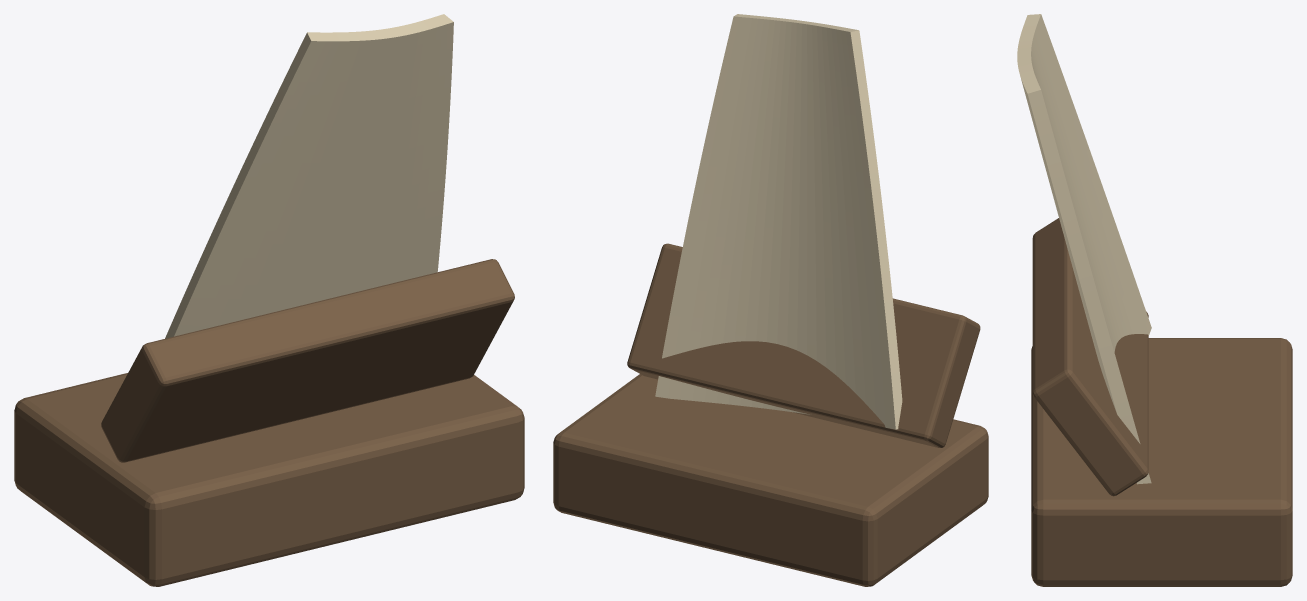
Rendered from oracle-bone.glb.
The picture shows the model from 3 angles, left to right: view 1: azimuth 30°, elevation 25°; view 2: azimuth 150°, elevation 25°; view 3: azimuth 270°, elevation 25°; orthographic projection. The views are drawn at different scales.
Visible parts, largest first — view 1: bone; view 2: bone; view 3: bone.
Boxes of the visible parts, x1=… form: bone: x1=14, y1=14, x2=524, y2=586; bone: x1=553, y1=14, x2=988, y2=586; bone: x1=1017, y1=14, x2=1292, y2=586.
Size of the model in its own units: 0.34 by 0.4448 by 0.2319.
2 materials, 1 textured.
